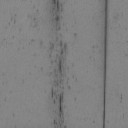surface scratch: (102, 0, 108, 128)
